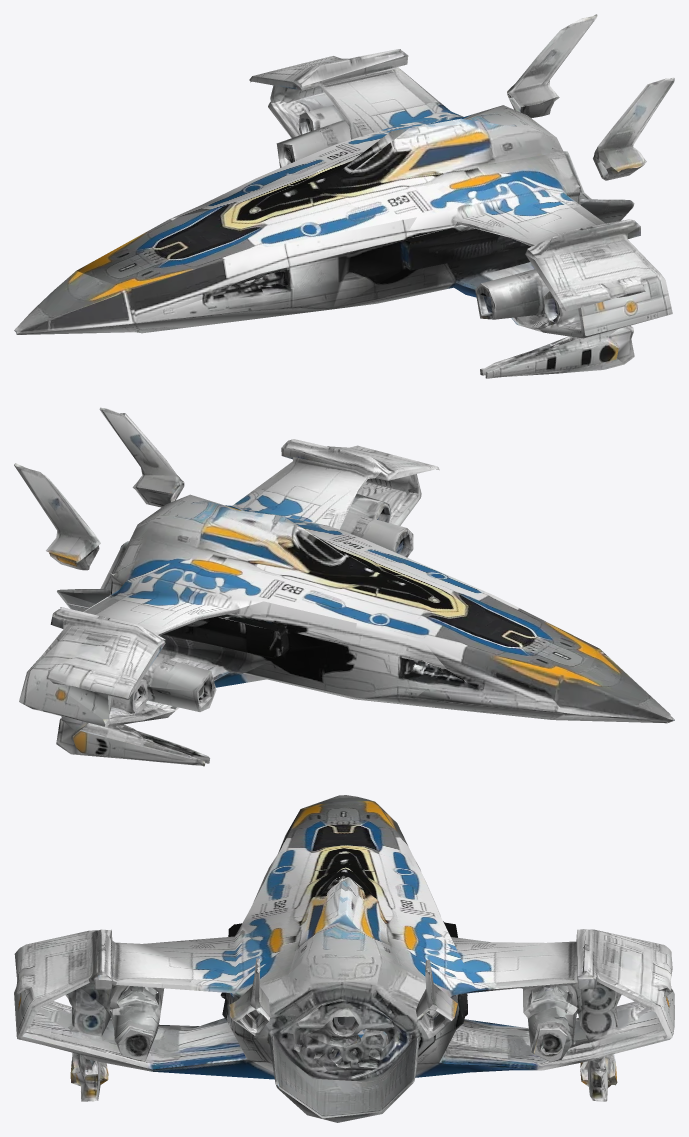
Rendered from zone.glb.
3 renders of one model, top to bottom at view 1: azimuth 30°, elevation 25°; view 2: azimuth 150°, elevation 25°; view 3: azimuth 270°, elevation 25°, orthographic. The views are drawn at different scales.
Visible parts, largest first — view 1: Mesh0; view 2: Mesh0; view 3: Mesh0.
Boxes of the visible parts, x1,y1,x2,y2 form: Mesh0: (14, 14, 674, 378); Mesh0: (14, 407, 674, 766); Mesh0: (14, 795, 674, 1122).
Size of the model in its own units: 1.91 by 0.5696 by 1.68.
Materials: 1 (1 with a texture image).
